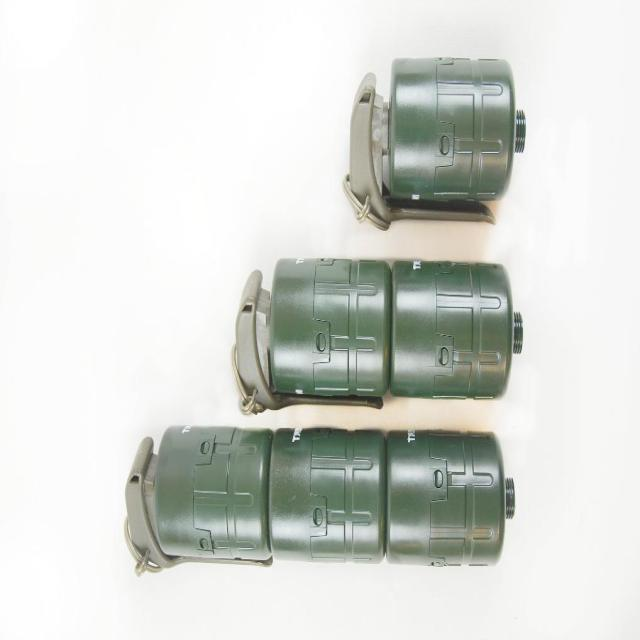grenade: (123, 424, 518, 582), (231, 261, 523, 416), (345, 58, 526, 230)
